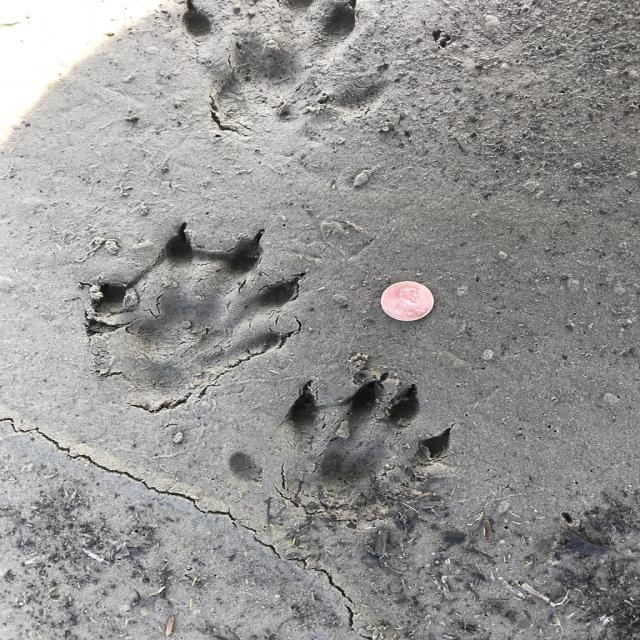mustelid: (93, 222, 296, 400), (272, 371, 458, 518)
